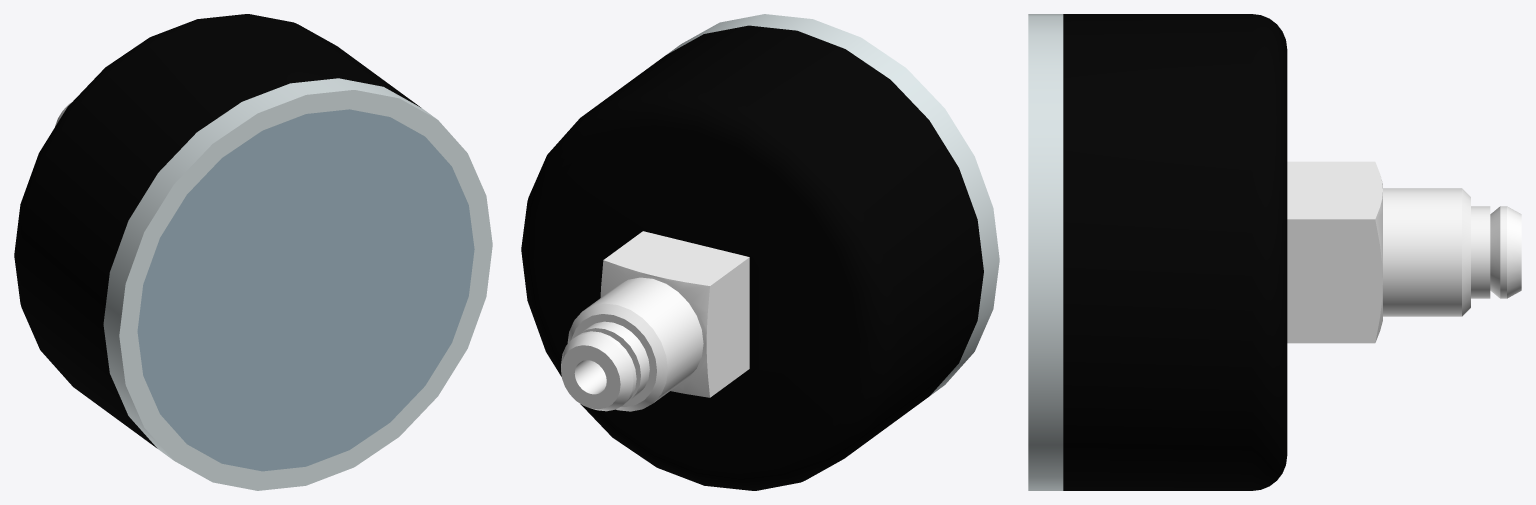
3 renders of one model, left to right at view 1: azimuth 30°, elevation 25°; view 2: azimuth 150°, elevation 25°; view 3: azimuth 270°, elevation 25°, orthographic. The views are drawn at different scales.
Visible parts, largest first — view 1: Group_001; view 2: Group_001; view 3: Group_001.
Part boxes in pixels (box(x1,y1,x2,y2)): Group_001: box(14, 14, 492, 490); Group_001: box(521, 14, 999, 490); Group_001: box(1028, 14, 1521, 490).
Bounding box in the file's own units: 1.93 × 1.93 × 1.99.
